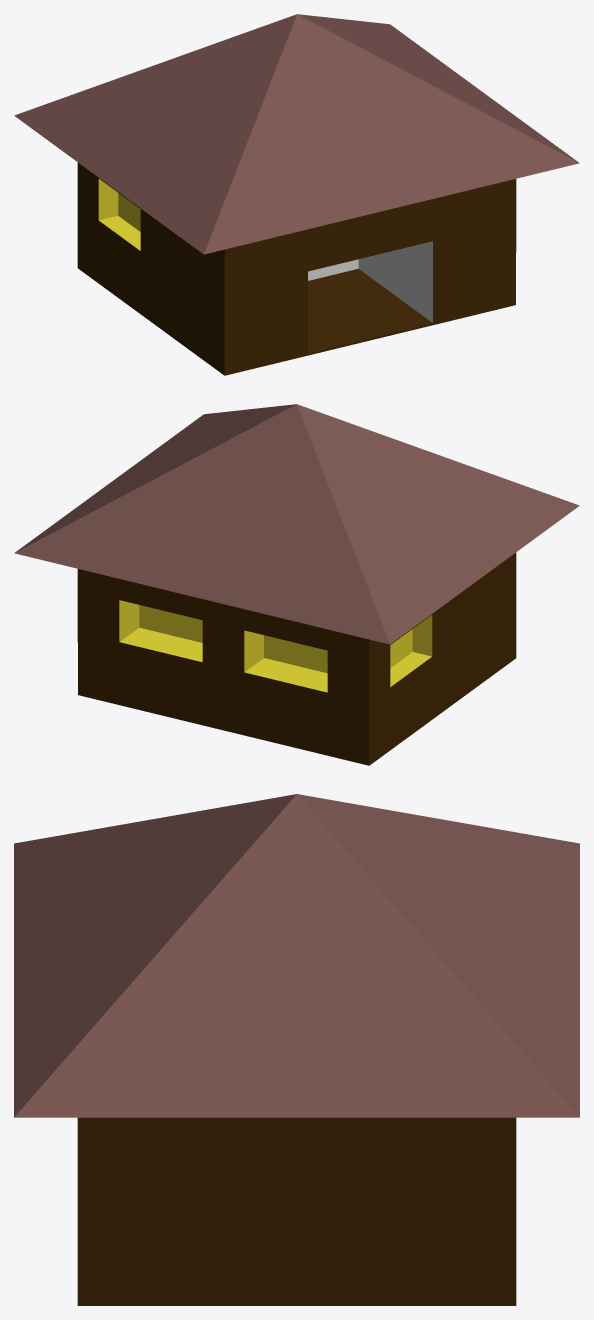
The model's file is house.fbx.
3 renders of one model, top to bottom at view 1: azimuth 30°, elevation 25°; view 2: azimuth 150°, elevation 25°; view 3: azimuth 270°, elevation 25°, orthographic. The views are drawn at different scales.
Parts seen in each view (by area): view 1: Cube; view 2: Cube; view 3: Cube.
Part boxes in pixels (x1,y1,x2,y2): Cube: (14, 14, 579, 375); Cube: (14, 404, 579, 765); Cube: (14, 794, 579, 1305).
Size of the model in its own units: 941 by 652 by 823.
